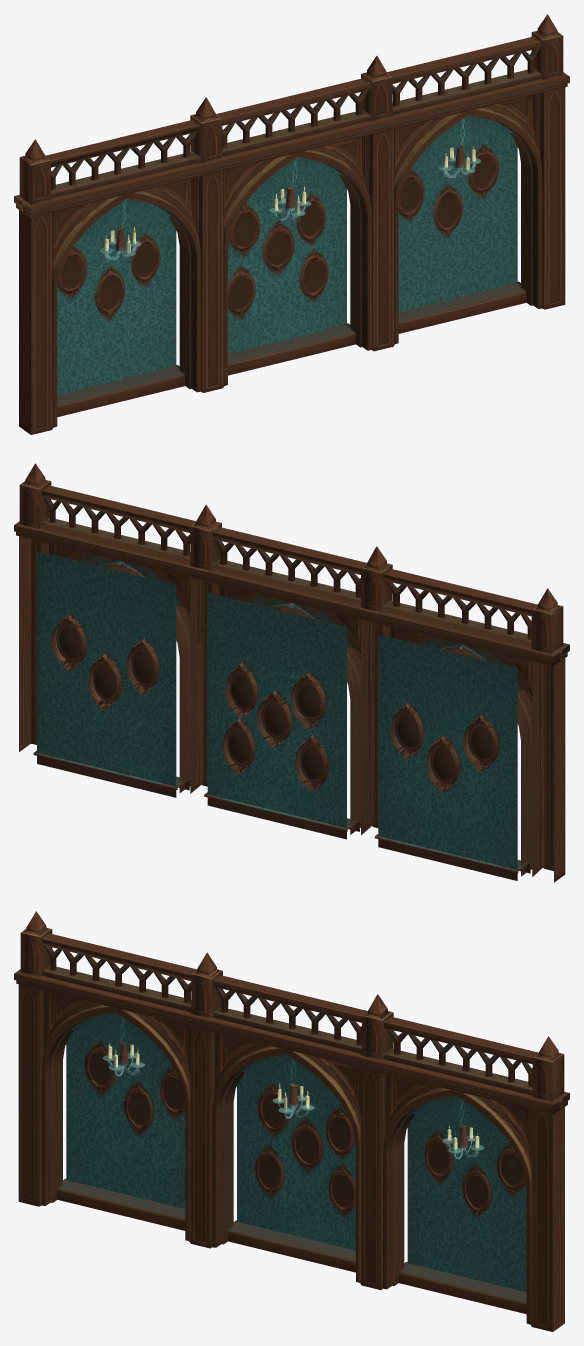
File: mansion_balcon.glb
The picture shows the model from 3 angles, top to bottom: view 1: azimuth 30°, elevation 25°; view 2: azimuth 150°, elevation 25°; view 3: azimuth 330°, elevation 25°; orthographic projection.
Visible parts, largest first — view 1: tripo_node_8577cbde-7d6c-4106-bc2d-ff72beed3928; view 2: tripo_node_8577cbde-7d6c-4106-bc2d-ff72beed3928; view 3: tripo_node_8577cbde-7d6c-4106-bc2d-ff72beed3928.
Part boxes in pixels (bbox=[...]): tripo_node_8577cbde-7d6c-4106-bc2d-ff72beed3928: bbox=[14, 14, 569, 434]; tripo_node_8577cbde-7d6c-4106-bc2d-ff72beed3928: bbox=[14, 463, 569, 882]; tripo_node_8577cbde-7d6c-4106-bc2d-ff72beed3928: bbox=[14, 911, 569, 1331].
Bounding box in the file's own units: 0.9995 × 0.5109 × 0.0913.
Materials: 1 (1 with a texture image).
